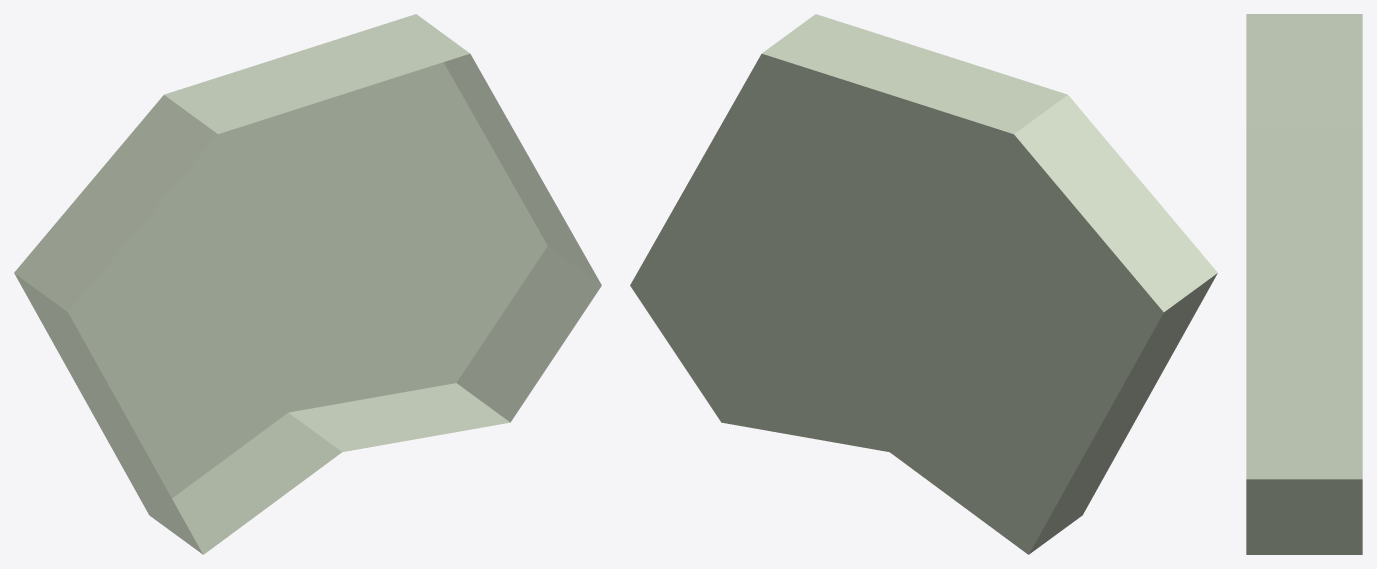
The picture shows the model from 3 angles, left to right: view 1: azimuth 30°, elevation 25°; view 2: azimuth 150°, elevation 25°; view 3: azimuth 270°, elevation 25°; orthographic projection. The views are drawn at different scales.
Visible parts, largest first — view 1: Object09; view 2: Object09; view 3: Object09.
Part boxes in pixels (x1,y1,x2,y2): Object09: [14, 14, 601, 554]; Object09: [630, 14, 1217, 554]; Object09: [1246, 14, 1362, 554].
Bounding box in the file's own units: 16147 × 12608 × 2834.
